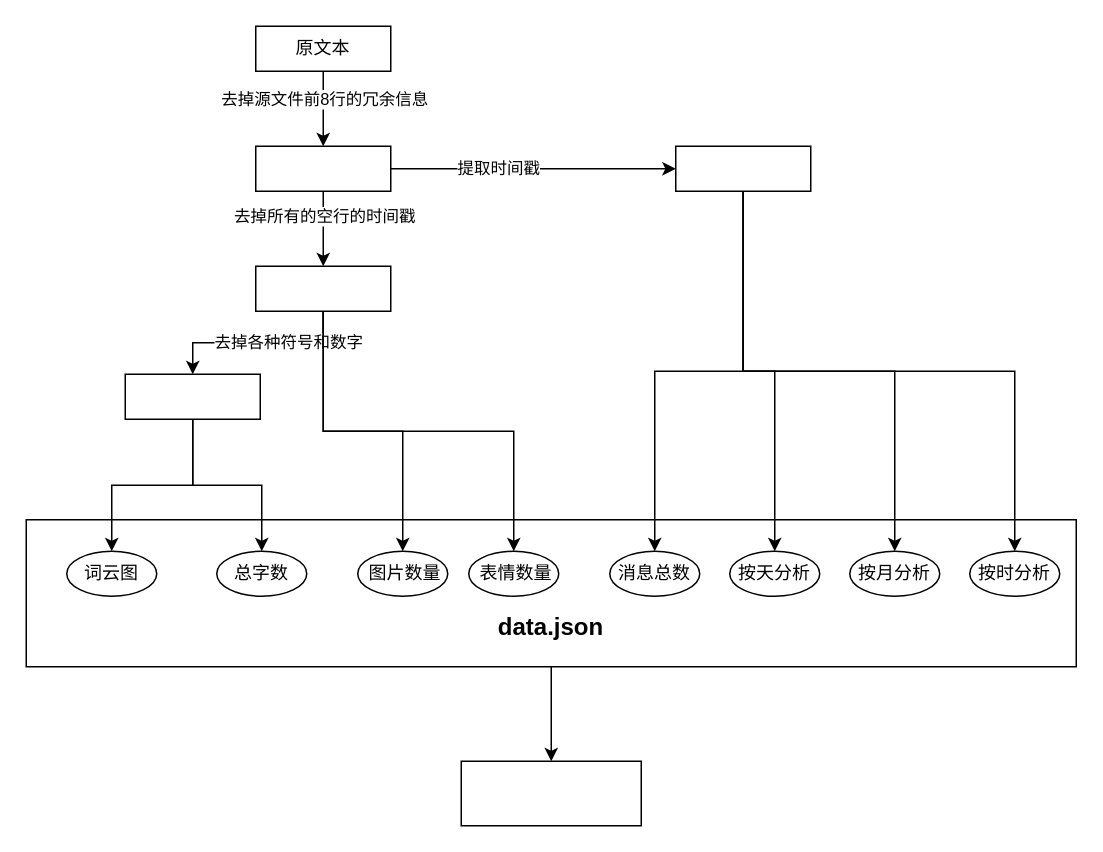
Some shapes in this 1103 by 852 pixel diagram are drawn without their labels. Here are the shapes that lost their labels. From the top down, the centre of each, then its label:
point (322, 168): backup01.txt
point (742, 168): timeline.txt
point (322, 288): backup02.txt
point (192, 396): backup03.txt
point (550, 793): 前端显示
